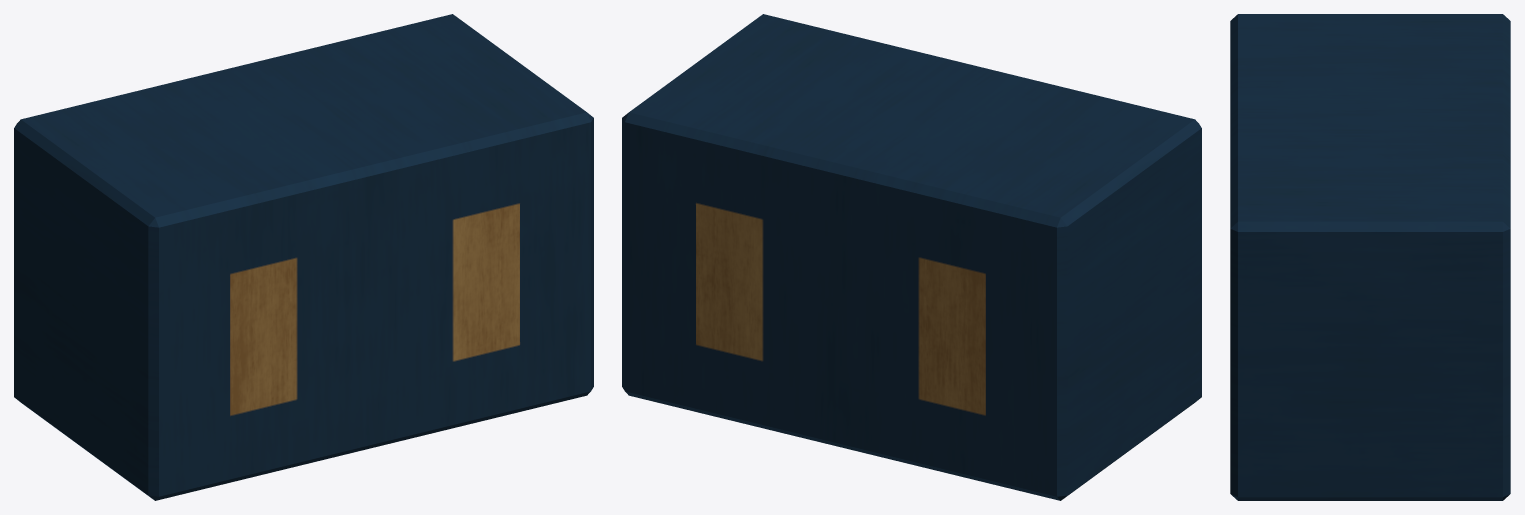
Rendered from houseblock2-2.fbx.
3 renders of one model, left to right at view 1: azimuth 30°, elevation 25°; view 2: azimuth 150°, elevation 25°; view 3: azimuth 270°, elevation 25°, orthographic.
Visible parts, largest first — view 1: houseblock2; view 2: houseblock2; view 3: houseblock2.
Boxes of the visible parts, box(x1,y1,x2,y2) form: houseblock2: box(14, 14, 593, 500); houseblock2: box(622, 14, 1201, 500); houseblock2: box(1230, 14, 1510, 500).
Bounding box in the file's own units: 1.78 × 1.08 × 0.9853.
